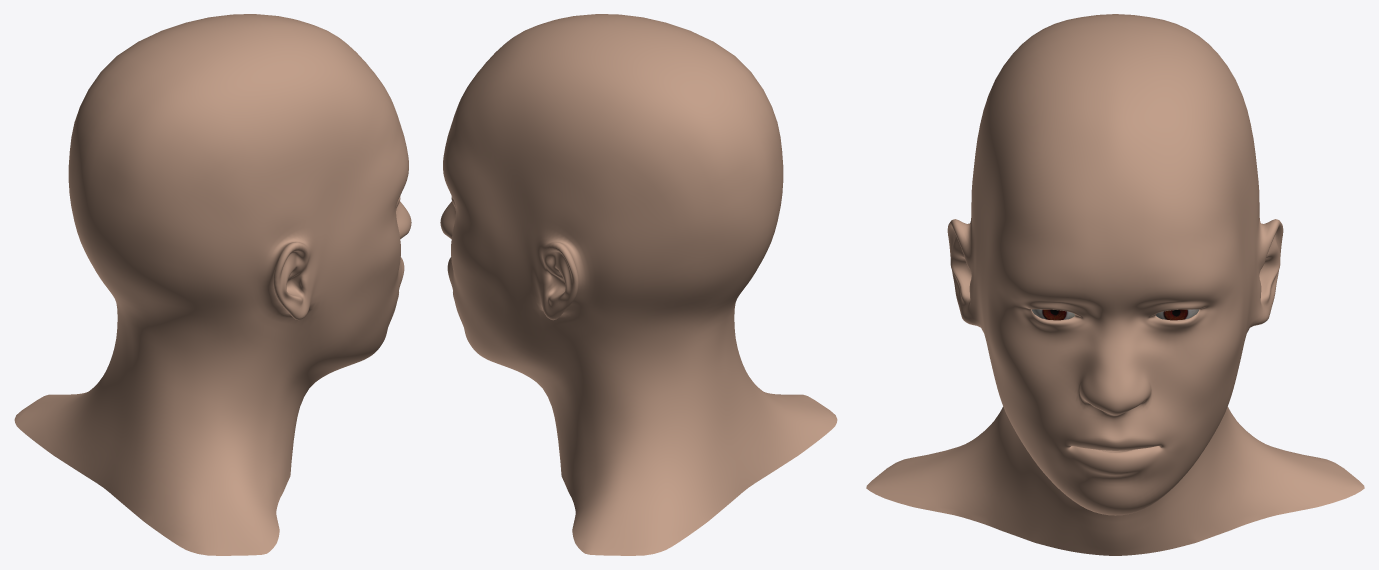
Rendered from head-study.glb.
The picture shows the model from 3 angles, left to right: view 1: azimuth 30°, elevation 25°; view 2: azimuth 150°, elevation 25°; view 3: azimuth 270°, elevation 25°; orthographic projection. The views are drawn at different scales.
Visible parts, largest first — view 1: Source continuous body skin — head crop; view 2: Source continuous body skin — head crop; view 3: Source continuous body skin — head crop, Source eyes fitted by original MHCLO.
Boxes of the visible parts, bbox=[...] form: Source continuous body skin — head crop: bbox=[14, 14, 411, 555]; Source continuous body skin — head crop: bbox=[440, 14, 837, 555]; Source continuous body skin — head crop: bbox=[866, 14, 1364, 555]; Source eyes fitted by original MHCLO: bbox=[1031, 309, 1199, 320].
Bounding box in the file's own units: 0.2173 × 0.2714 × 0.251.
2 materials, 1 textured.
